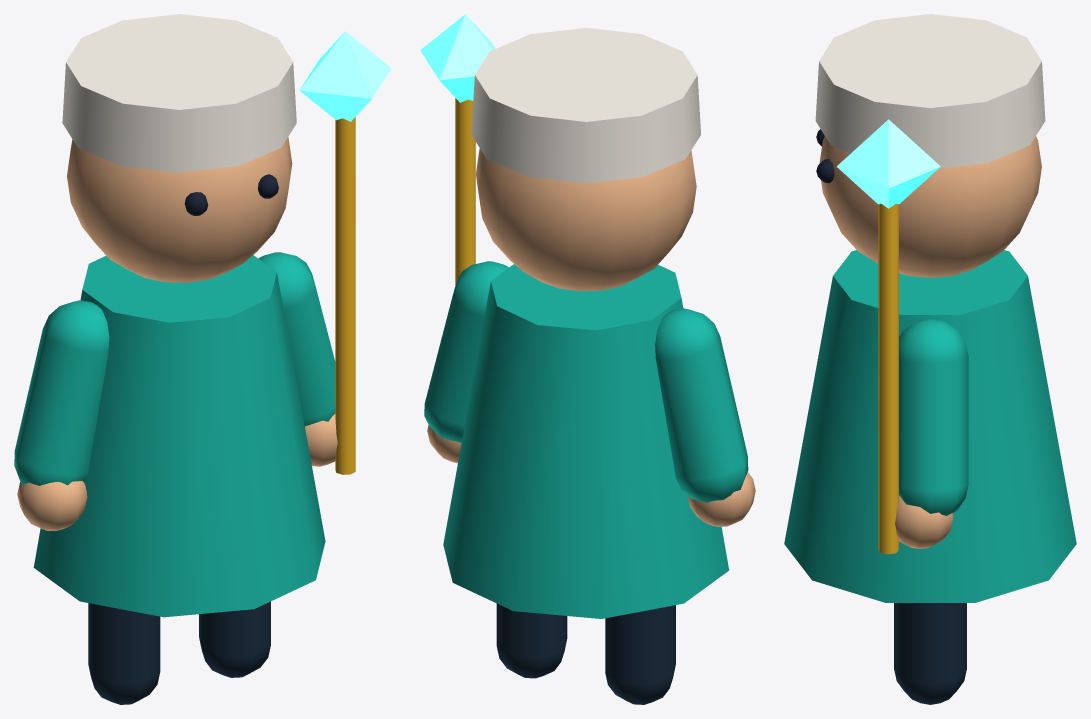
Rendered from qirra.glb.
The picture shows the model from 3 angles, left to right: view 1: azimuth 30°, elevation 25°; view 2: azimuth 150°, elevation 25°; view 3: azimuth 270°, elevation 25°; orthographic projection. The views are drawn at different scales.
Visible parts, largest first — view 1: QirraRobeMesh, QirraKufiMesh, QirraHead, QirraArm-1, QirraStaff, QirraArm1, QirraBoot-1, QirraStaffCrystal, QirraBoot1, QirraHand-1, QirraHand1; view 2: QirraRobeMesh, QirraKufiMesh, QirraHead, QirraArm-1, QirraArm1, QirraBoot-1, QirraBoot1, QirraStaffCrystal, QirraStaff, QirraHand-1, QirraHand1; view 3: QirraRobeMesh, QirraKufiMesh, QirraHead, QirraArm1, QirraStaff, QirraBoot1, QirraStaffCrystal, QirraHand1.
Part boxes in pixels (left/top/right/bottom): QirraRobeMesh: left=33, top=255, right=325, bottom=617; QirraKufiMesh: left=62, top=14, right=296, bottom=172; QirraHead: left=67, top=137, right=292, bottom=282; QirraArm-1: left=14, top=300, right=109, bottom=485; QirraStaff: left=335, top=117, right=355, bottom=474; QirraArm1: left=258, top=252, right=335, bottom=426; QirraBoot-1: left=88, top=603, right=160, bottom=704; QirraStaffCrystal: left=299, top=31, right=391, bottom=121; QirraBoot1: left=199, top=601, right=270, bottom=677; QirraHand-1: left=17, top=481, right=87, bottom=531; QirraHand1: left=305, top=414, right=337, bottom=466; QirraRobeMesh: left=443, top=264, right=729, bottom=618; QirraKufiMesh: left=471, top=28, right=700, bottom=183; QirraHead: left=476, top=148, right=696, bottom=291; QirraArm-1: left=655, top=308, right=748, bottom=502; QirraArm1: left=424, top=261, right=508, bottom=442; QirraBoot-1: left=605, top=605, right=675, bottom=704; QirraBoot1: left=496, top=603, right=567, bottom=678; QirraStaffCrystal: left=420, top=14, right=495, bottom=102; QirraStaff: left=455, top=98, right=475, bottom=285; QirraHand-1: left=687, top=472, right=755, bottom=526; QirraHand1: left=427, top=425, right=461, bottom=463; QirraRobeMesh: left=784, top=250, right=1076, bottom=602; QirraKufiMesh: left=815, top=14, right=1045, bottom=168; QirraHead: left=819, top=136, right=1041, bottom=277; QirraArm1: left=899, top=319, right=968, bottom=515; QirraStaff: left=878, top=203, right=898, bottom=554; QirraBoot1: left=894, top=603, right=966, bottom=704; QirraStaffCrystal: left=836, top=119, right=940, bottom=208; QirraHand1: left=895, top=495, right=953, bottom=548.
Bounding box in the file's own units: 1.15 × 1.98 × 0.84.
